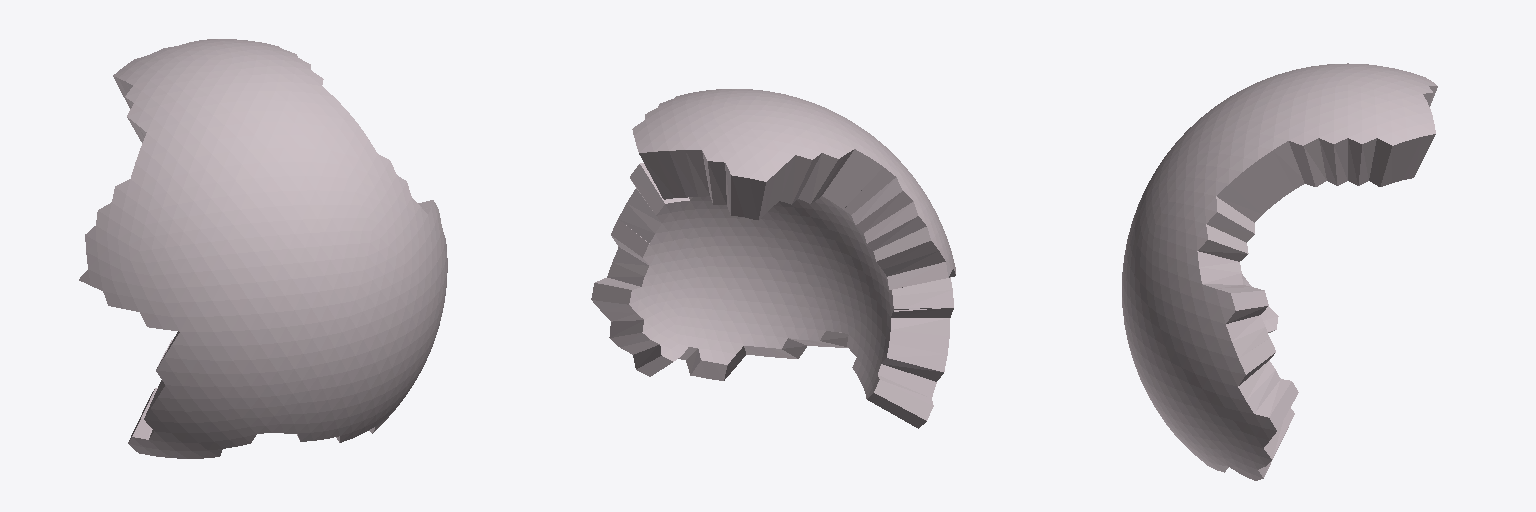
The model's file is clouds_12.obj.
3 views of the same model, side by side, from view 1: azimuth 30°, elevation 25°; view 2: azimuth 150°, elevation 25°; view 3: azimuth 270°, elevation 25° (orthographic).
Parts seen in each view (by area): view 1: Icosphere.037; view 2: Icosphere.037; view 3: Icosphere.037.
Boxes of the visible parts, x1,y1,x2,y2 form: Icosphere.037: [79, 39, 447, 458]; Icosphere.037: [591, 89, 955, 428]; Icosphere.037: [1122, 63, 1437, 480].
Size of the model in its own units: 19.8 by 18.09 by 15.15.